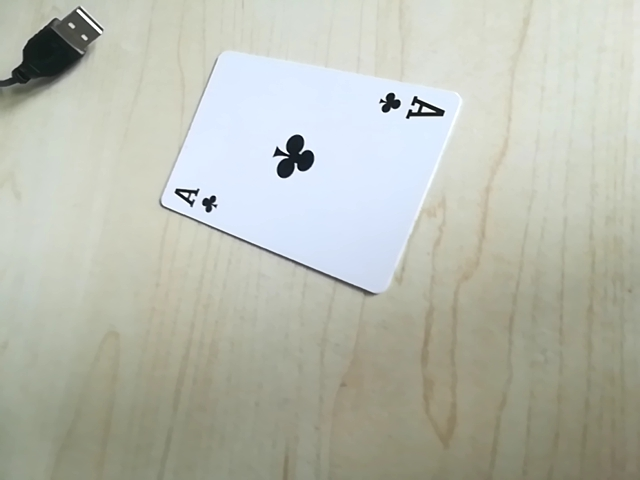mh a: (371, 88, 452, 130), (165, 180, 225, 218)
